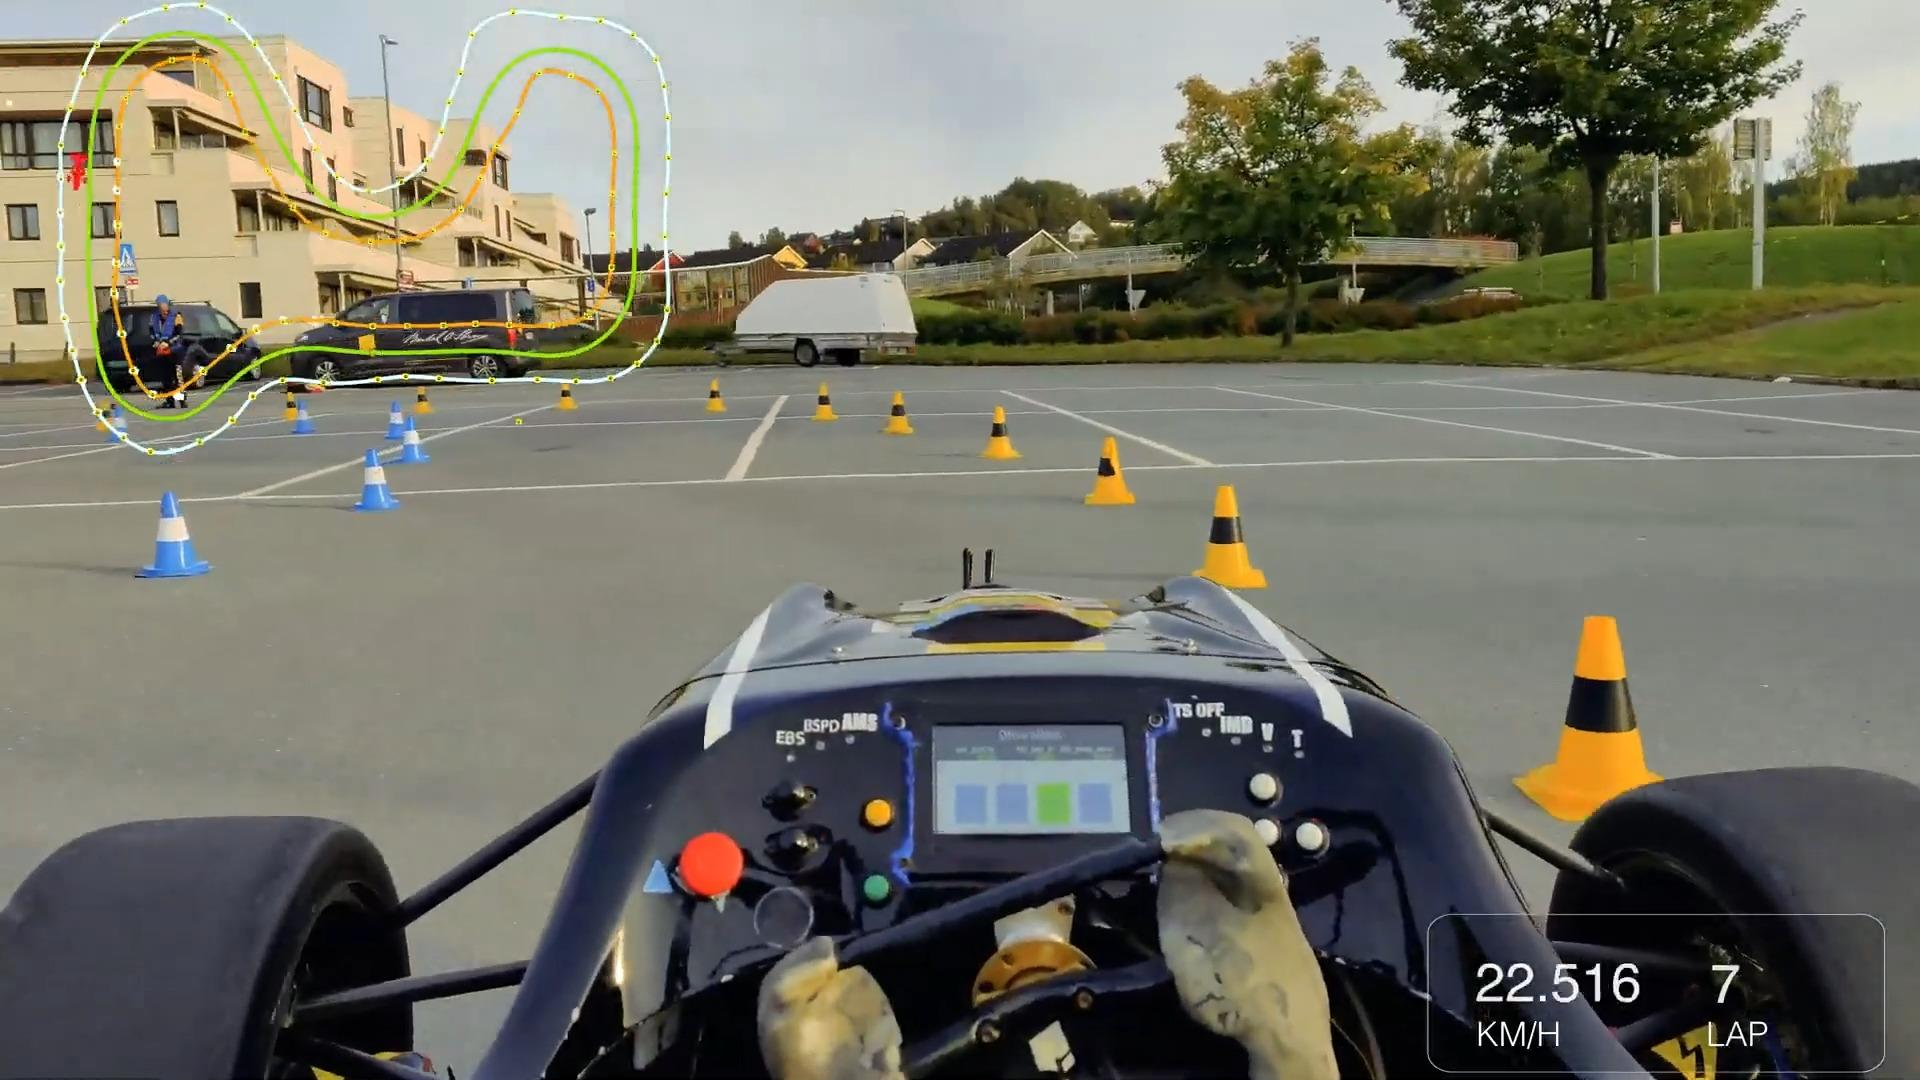blue_cone: (131, 480, 211, 588), (351, 447, 402, 513), (402, 417, 427, 464), (111, 409, 132, 447), (384, 400, 404, 439), (297, 401, 313, 433)
yellow_cone: (1505, 597, 1685, 822), (1188, 481, 1270, 591), (1076, 434, 1141, 508), (976, 401, 1022, 462), (882, 388, 914, 436), (811, 378, 840, 421), (703, 376, 729, 415), (556, 381, 578, 413), (413, 385, 434, 415), (98, 400, 113, 434), (284, 392, 299, 423)
